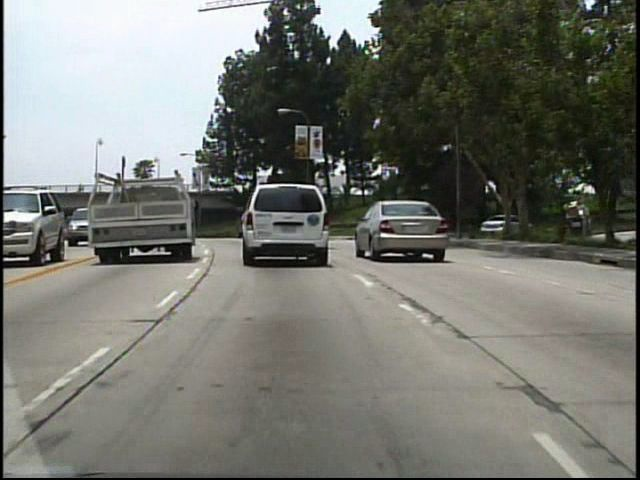person: (75, 179, 86, 199)
